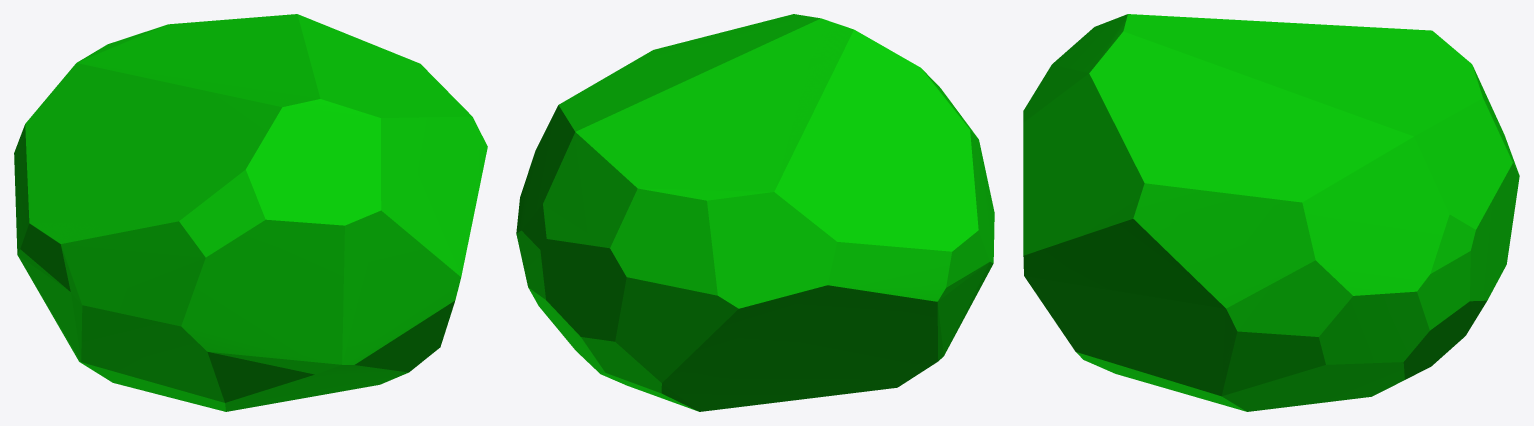
Rendered from UCX_tsumiishi4r.fbx.
The picture shows the model from 3 angles, left to right: view 1: azimuth 30°, elevation 25°; view 2: azimuth 150°, elevation 25°; view 3: azimuth 270°, elevation 25°; orthographic projection. The views are drawn at different scales.
Visible parts, largest first — view 1: UCX_tsumiishi4r_low; view 2: UCX_tsumiishi4r_low; view 3: UCX_tsumiishi4r_low.
Boxes of the visible parts, <box> form: UCX_tsumiishi4r_low: <box>14,14,487,411</box>; UCX_tsumiishi4r_low: <box>516,14,994,411</box>; UCX_tsumiishi4r_low: <box>1023,14,1519,411</box>.
Size of the model in its own units: 0.0659 by 0.0445 by 0.0638.
